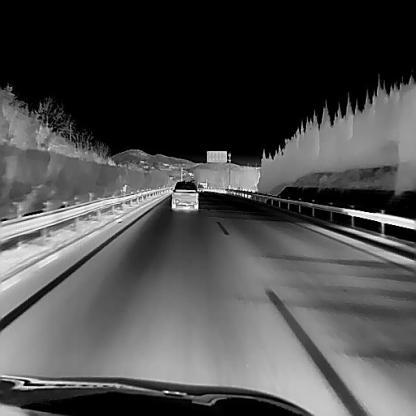car: (171, 180, 199, 209), (196, 183, 204, 191)
